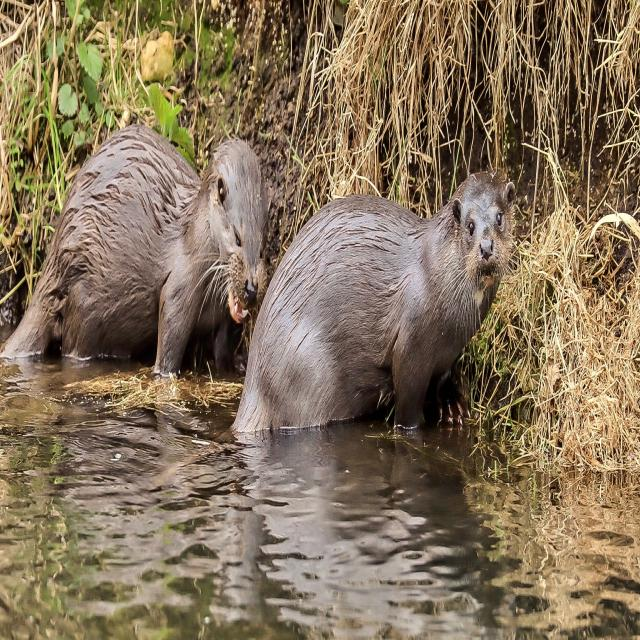otter: (238, 172, 513, 433), (6, 139, 267, 357)
